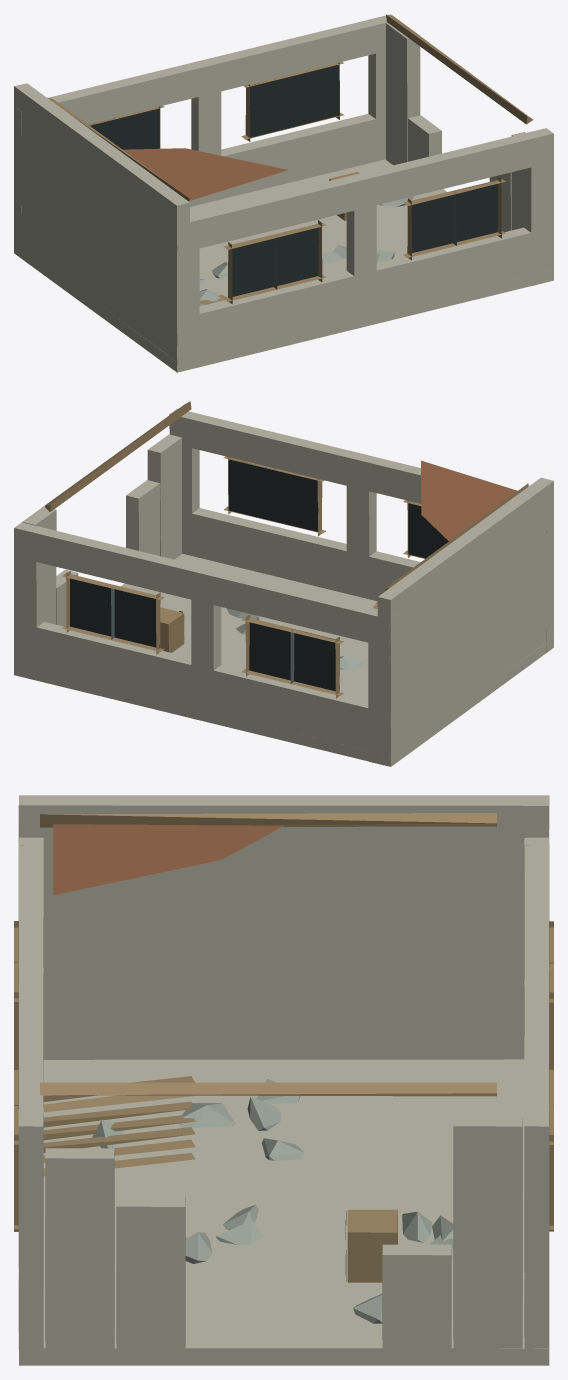
Rendered from house_ruin_low.glb.
3 renders of one model, top to bottom at view 1: azimuth 30°, elevation 25°; view 2: azimuth 150°, elevation 25°; view 3: azimuth 270°, elevation 25°, orthographic. The views are drawn at different scales.
Parts seen in each view (by area): view 1: house_ruin.001; view 2: house_ruin.001; view 3: house_ruin.001.
Boxes of the visible parts, x1=… form: house_ruin.001: x1=14, y1=14, x2=553, y2=372; house_ruin.001: x1=14, y1=401, x2=553, y2=766; house_ruin.001: x1=14, y1=795, x2=553, y2=1365.
Size of the model in its own units: 7.98 by 3.47 by 6.09.
